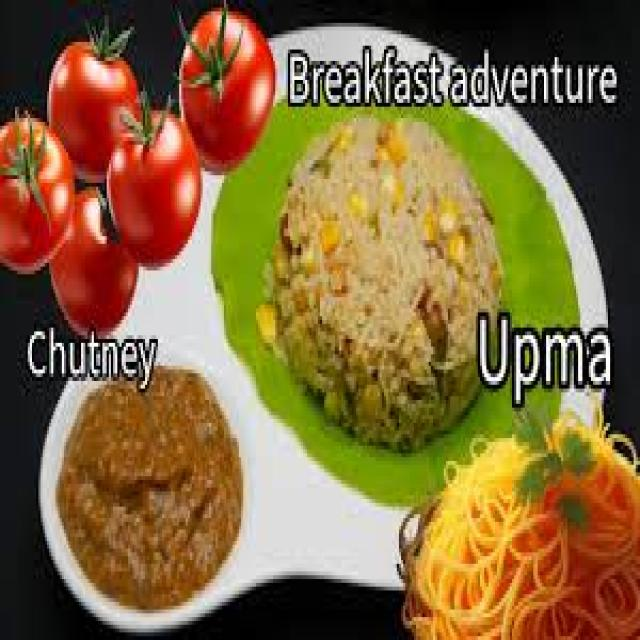UPMA: (256, 114, 499, 446)
